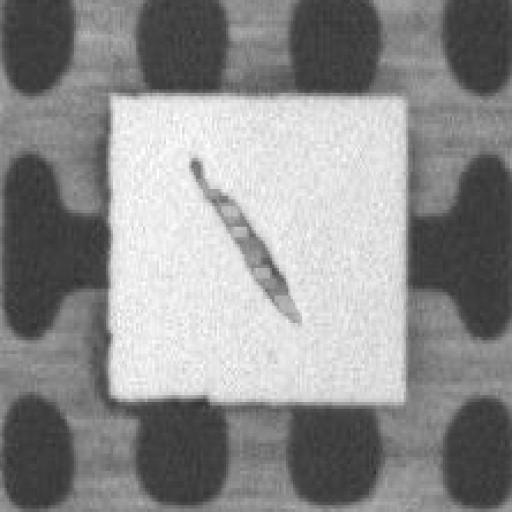DIE_INK: (254, 85, 460, 224)
